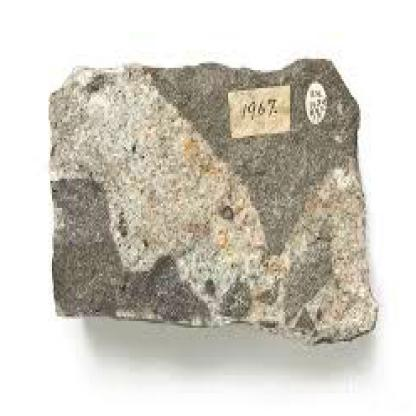Igneous_Diorite: (92, 83, 339, 298)
